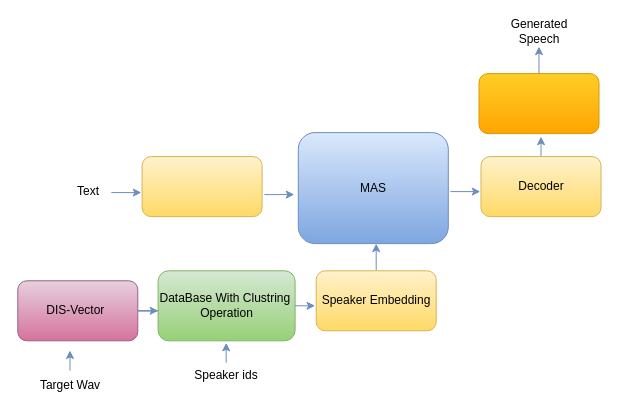
This 619x418 diagram has some shape labels left out. Each missing label, with the box of its shape:
HIFI-GAN: (478, 73, 599, 134)
Text Encoder: (141, 156, 262, 217)
